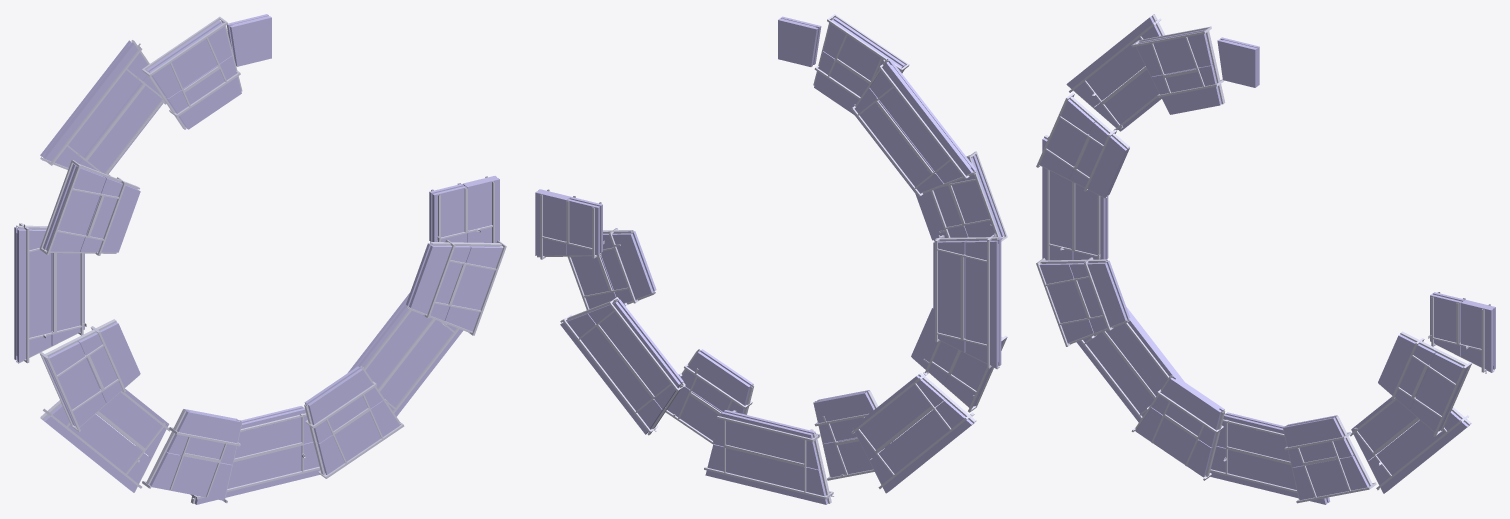
Rendered from Extra-Wheel-SideC-cut3.glb.
3 renders of one model, left to right at view 1: azimuth 30°, elevation 25°; view 2: azimuth 150°, elevation 25°; view 3: azimuth 330°, elevation 25°, orthographic. The views are drawn at different scales.
Parts seen in each view (by area): view 1: null; view 2: null; view 3: null.
Boxes of the visible parts, x1=… form: null: x1=14, y1=14, x2=506, y2=504; null: x1=535, y1=14, x2=1007, y2=504; null: x1=1036, y1=14, x2=1495, y2=504.
Bounding box in the file's own units: 17.93 × 17.54 × 1.54.
